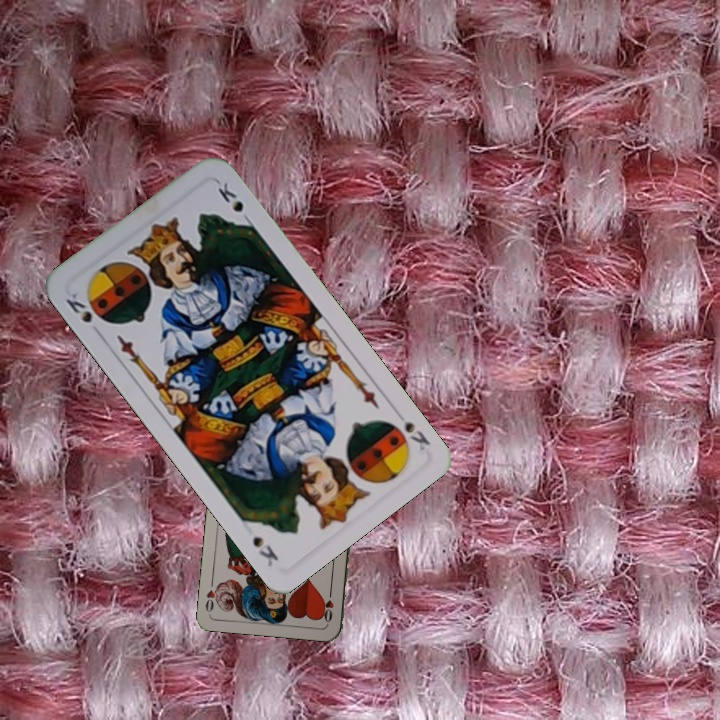HO: (320, 585, 336, 625)
SK: (61, 288, 108, 326), (400, 415, 433, 453)
